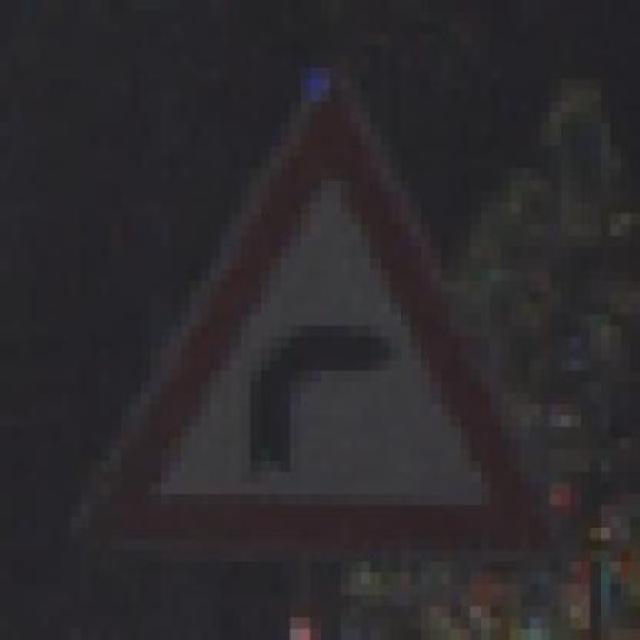Dangerous Rright Curve Ahead: (60, 56, 560, 573)
